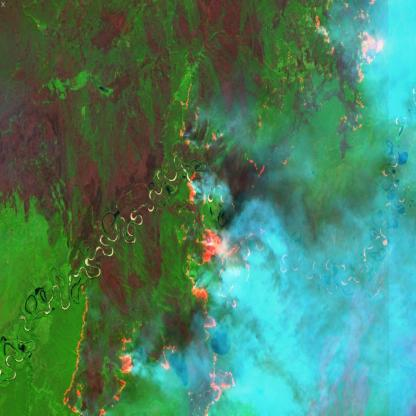fire: (283, 2, 389, 144), (60, 280, 145, 416), (182, 167, 249, 320), (171, 324, 246, 416)
